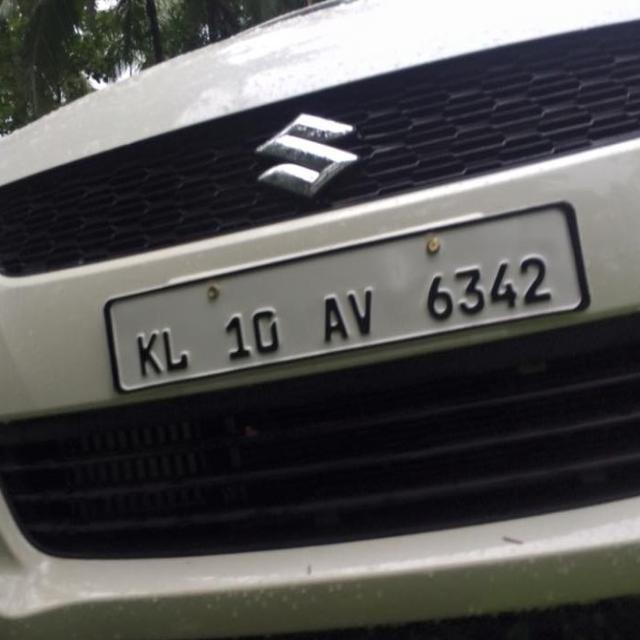LicensePlate: (106, 205, 583, 393)
